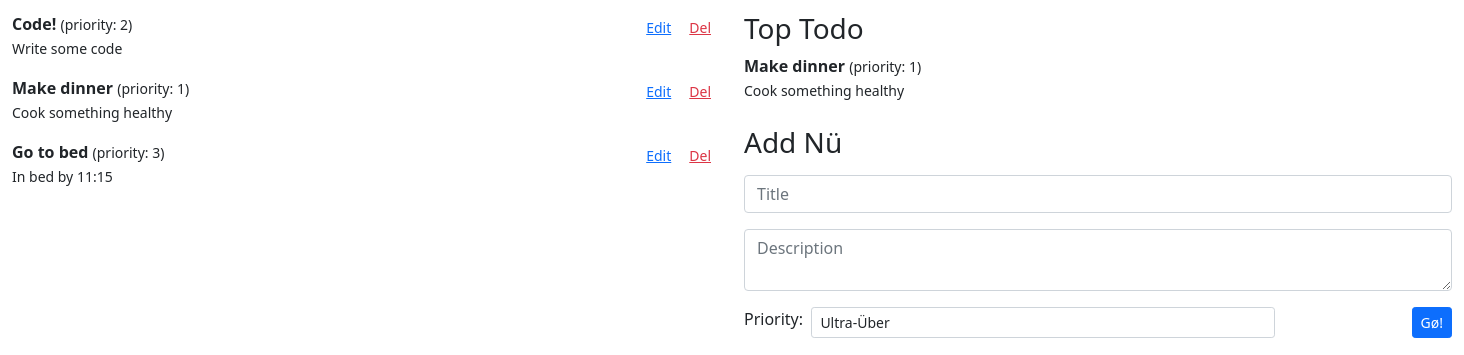
Test case: TodoApp component › updates a todo
The image size is (1464, 355).
Step 1. Click the button with class "EditableTodo-toggle" in the row of "Write some code" → (659, 28), box [637,12,680,43]
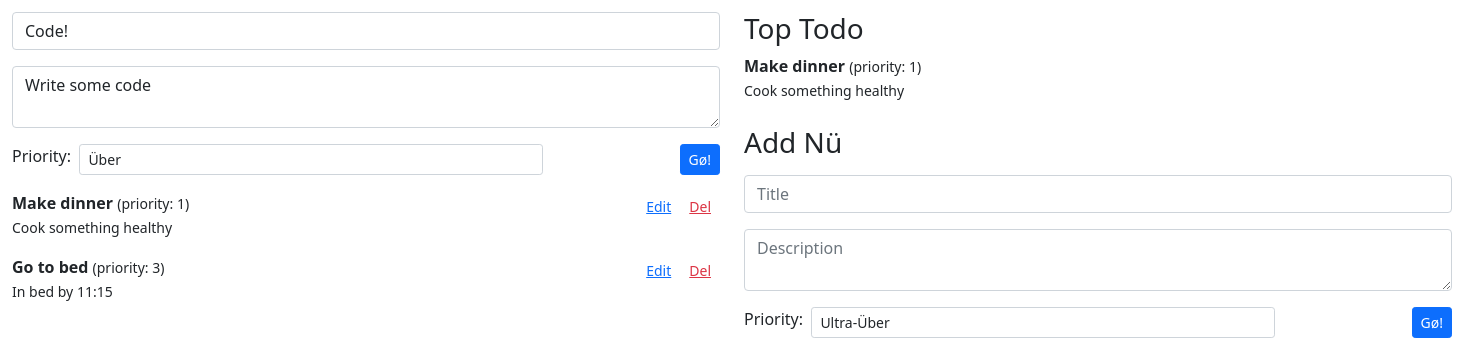
Expected: the text "Updated!" is not shown
Step 2. Replace the text in the field with id "newTodo-title" with "Updated!" → (366, 31), box [12,12,720,50]
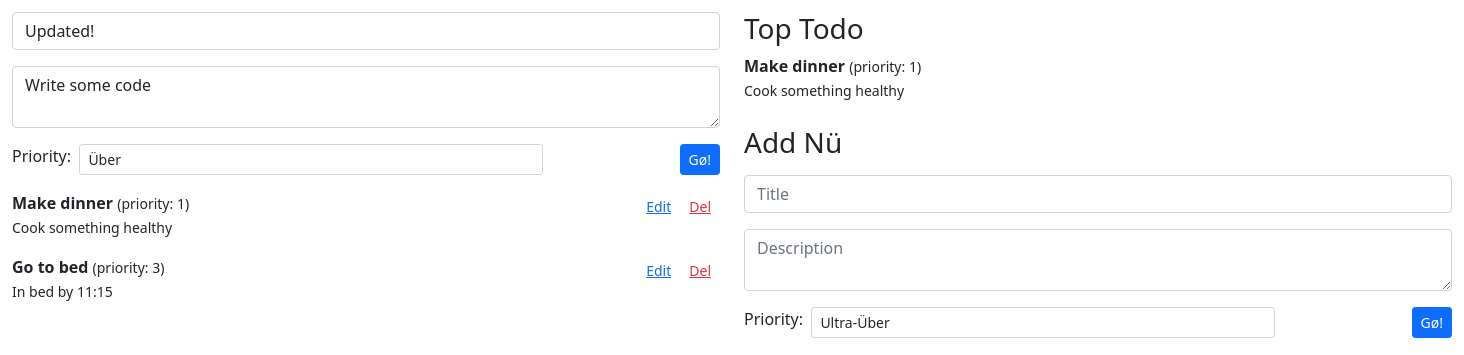
Step 3. Replace the text in the text box with id "newTodo-description" with "a new description" → (366, 97), box [12,66,720,128]
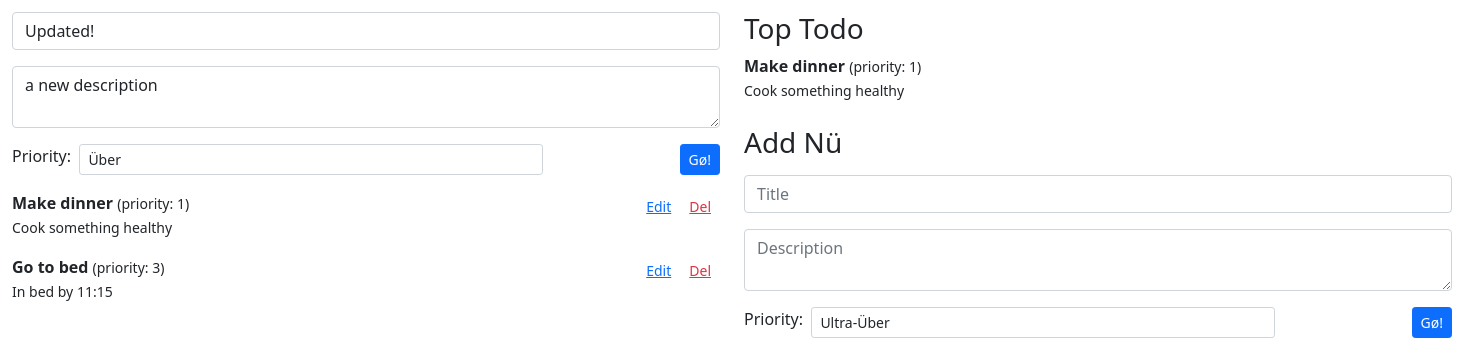
Step 4. Select "Meh" in the dropdown labelled "Priority:" → (311, 160), box [79,144,543,175]
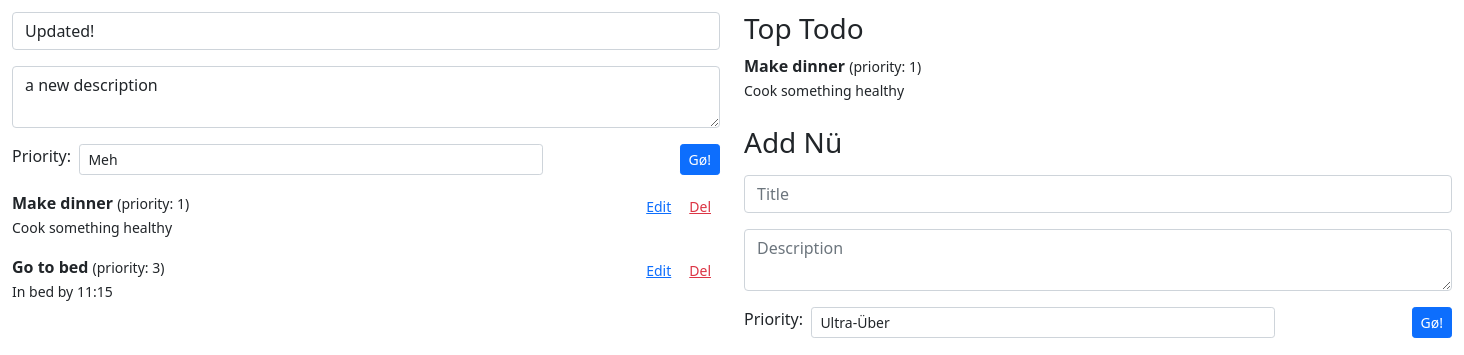
Step 5. Click the 1st button with class "NewTodoForm-addBtn" → (700, 160), box [680,144,720,175]
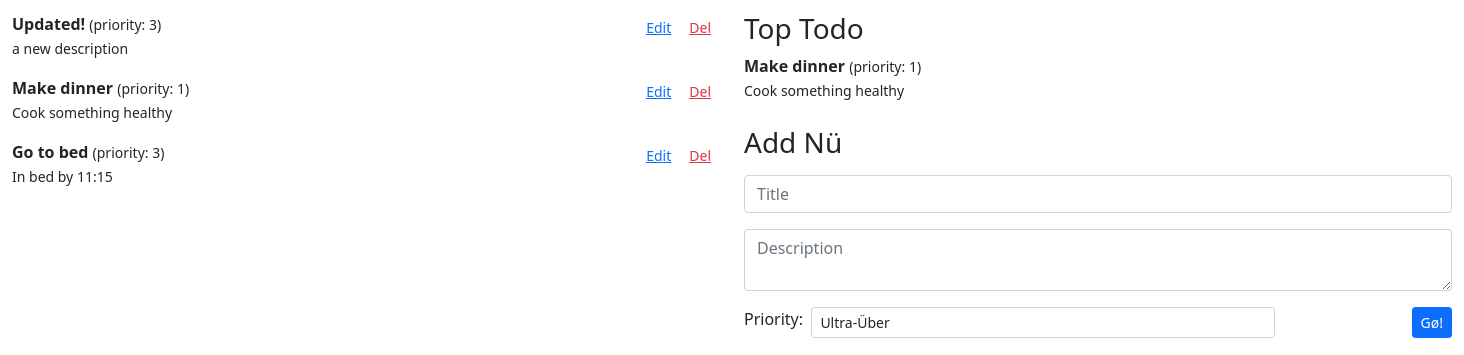
Now the text "Updated!" is shown, box [12,13,85,35]
